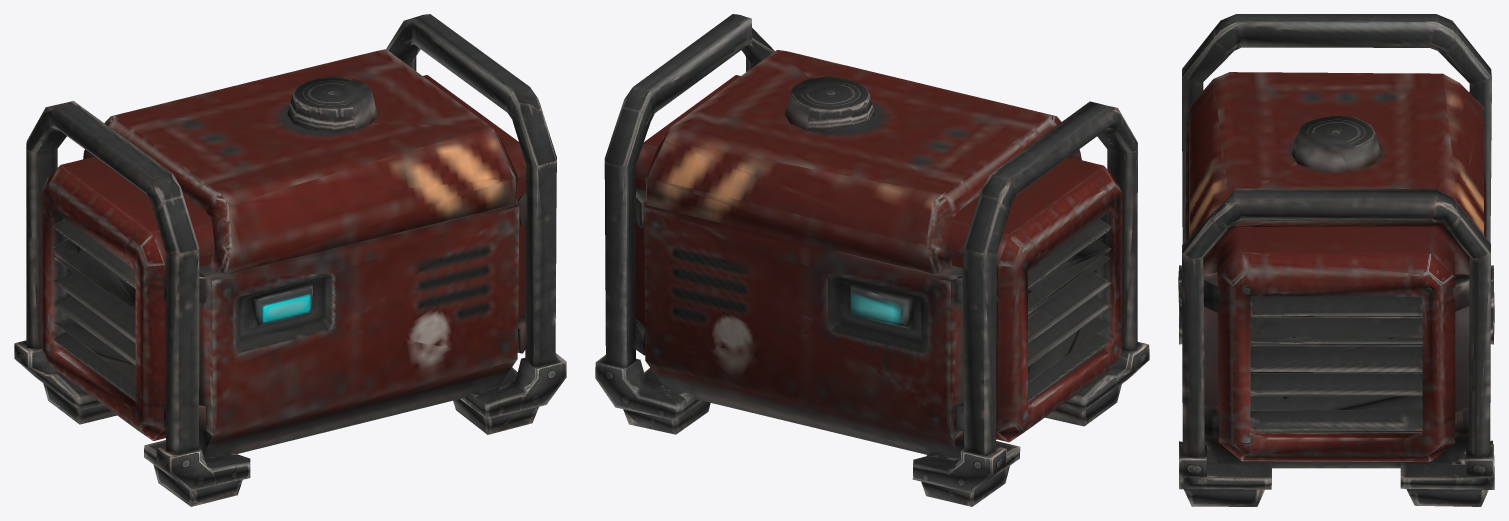
File: generator.glb
3 views of the same model, side by side, from view 1: azimuth 30°, elevation 25°; view 2: azimuth 150°, elevation 25°; view 3: azimuth 270°, elevation 25° (orthographic).
Bounding box in the file's own units: 1 × 0.7637 × 0.6875.
Materials: 1 (1 with a texture image).
